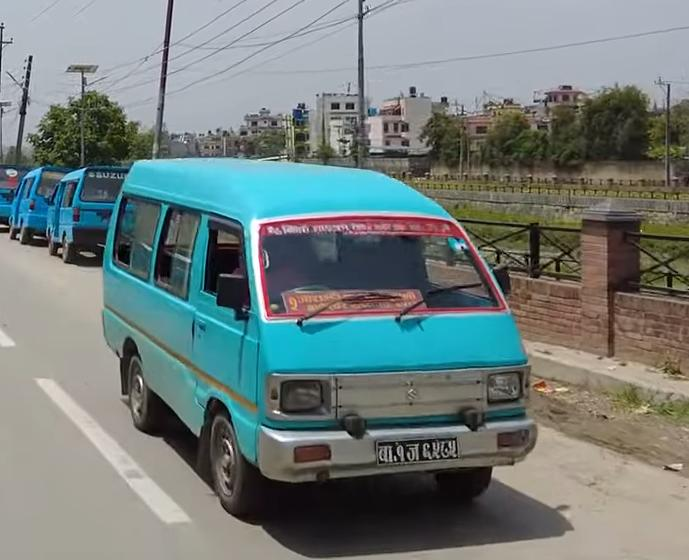van: (118, 155, 541, 527), (44, 167, 155, 261)
